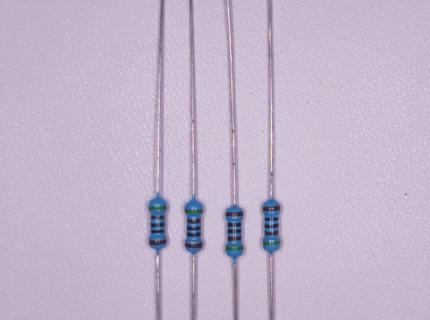Black band: (150, 222, 166, 228), (264, 223, 279, 228), (227, 229, 242, 234), (187, 232, 201, 237), (227, 223, 242, 227), (186, 226, 201, 230), (150, 230, 165, 234), (265, 217, 279, 221)
Brown band: (262, 205, 281, 211), (149, 240, 167, 246), (185, 243, 203, 249), (226, 211, 244, 216), (227, 236, 242, 242), (264, 230, 279, 236), (187, 218, 201, 224), (150, 215, 166, 220)
Green band: (225, 245, 243, 251), (262, 241, 281, 246), (185, 209, 203, 214), (148, 206, 167, 210)
